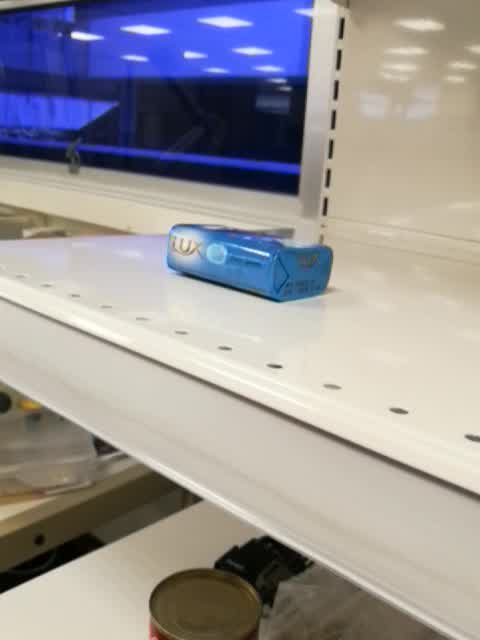soap: (164, 221, 335, 303)
